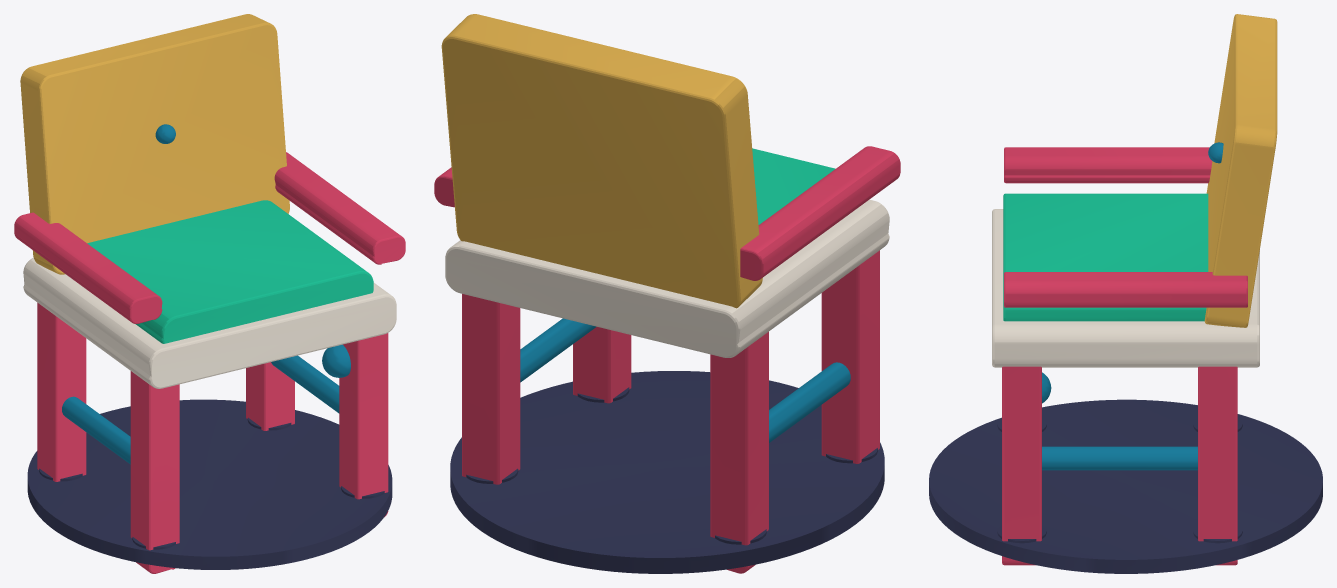
Rendered from 1348_城市运转图鉴_收水井.glb.
The picture shows the model from 3 angles, left to right: view 1: azimuth 30°, elevation 25°; view 2: azimuth 150°, elevation 25°; view 3: azimuth 270°, elevation 25°; orthographic projection. The views are drawn at different scales.
Visible parts, largest first — view 1: card_1348; view 2: card_1348; view 3: card_1348.
Part boxes in pixels (left/top/right/bottom): card_1348: left=14, top=14, right=405, bottom=573; card_1348: left=434, top=14, right=900, bottom=573; card_1348: left=929, top=14, right=1322, bottom=573.
Bounding box in the file's own units: 0.7869 × 1 × 0.8175.
